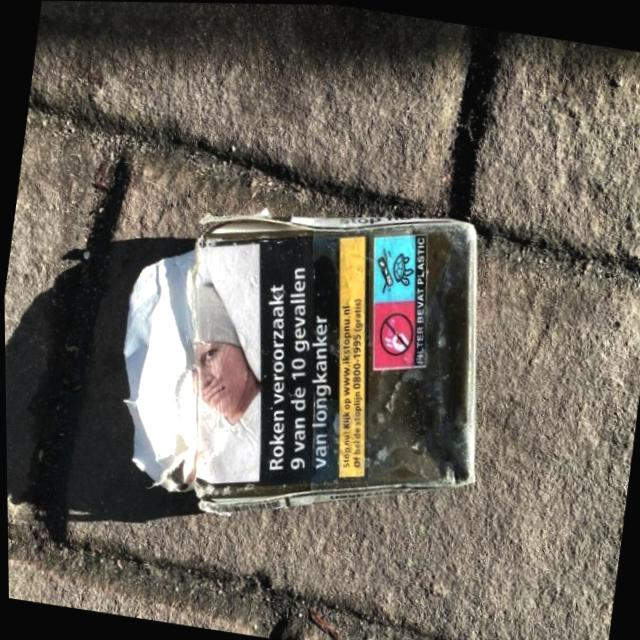Paper: (94, 160, 518, 560)
